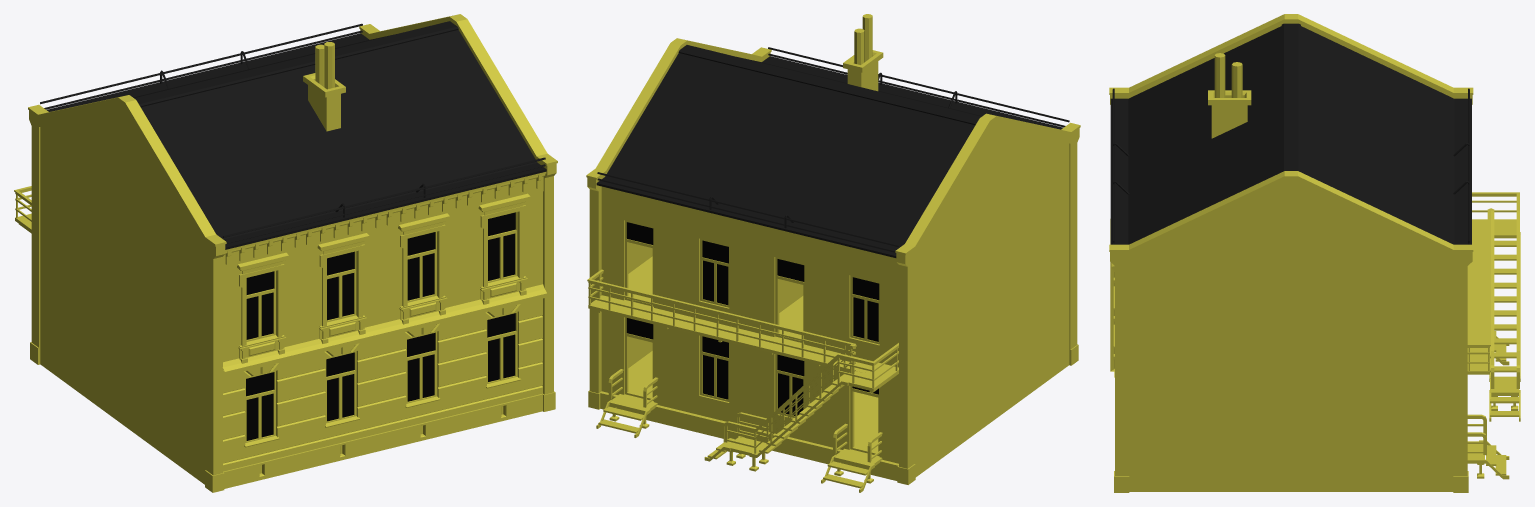
Rendered from SM_sixth_house.fbx.
3 renders of one model, left to right at view 1: azimuth 30°, elevation 25°; view 2: azimuth 150°, elevation 25°; view 3: azimuth 270°, elevation 25°, orthographic. The views are drawn at different scales.
Visible parts, largest first — view 1: Cylinder_9; view 2: Cylinder_9; view 3: Cylinder_9.
Part boxes in pixels (x1,y1,x2,y2): Cylinder_9: [14, 14, 557, 492]; Cylinder_9: [586, 14, 1080, 492]; Cylinder_9: [1109, 14, 1520, 492].
Bounding box in the file's own units: 1065 × 1090 × 1139.
